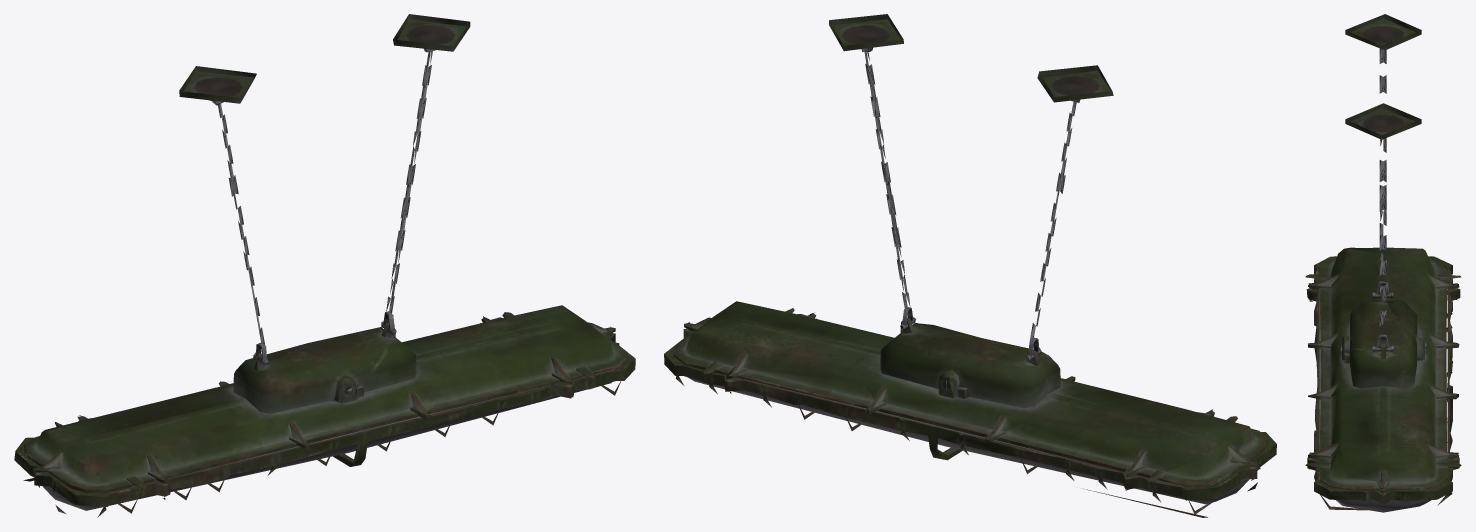
Rendered from caged_hanging_light.glb.
3 renders of one model, left to right at view 1: azimuth 30°, elevation 25°; view 2: azimuth 150°, elevation 25°; view 3: azimuth 270°, elevation 25°, orthographic. The views are drawn at different scales.
Visible parts, largest first — view 1: caged_hanging_light; view 2: caged_hanging_light; view 3: caged_hanging_light.
Part boxes in pixels (x1,y1,x2,y2): caged_hanging_light: (14,14,635,517); caged_hanging_light: (664,14,1276,517); caged_hanging_light: (1305,14,1461,512).
Bounding box in the file's own units: 1.16 × 0.7501 × 0.3149.
Materials: 1 (1 with a texture image).
